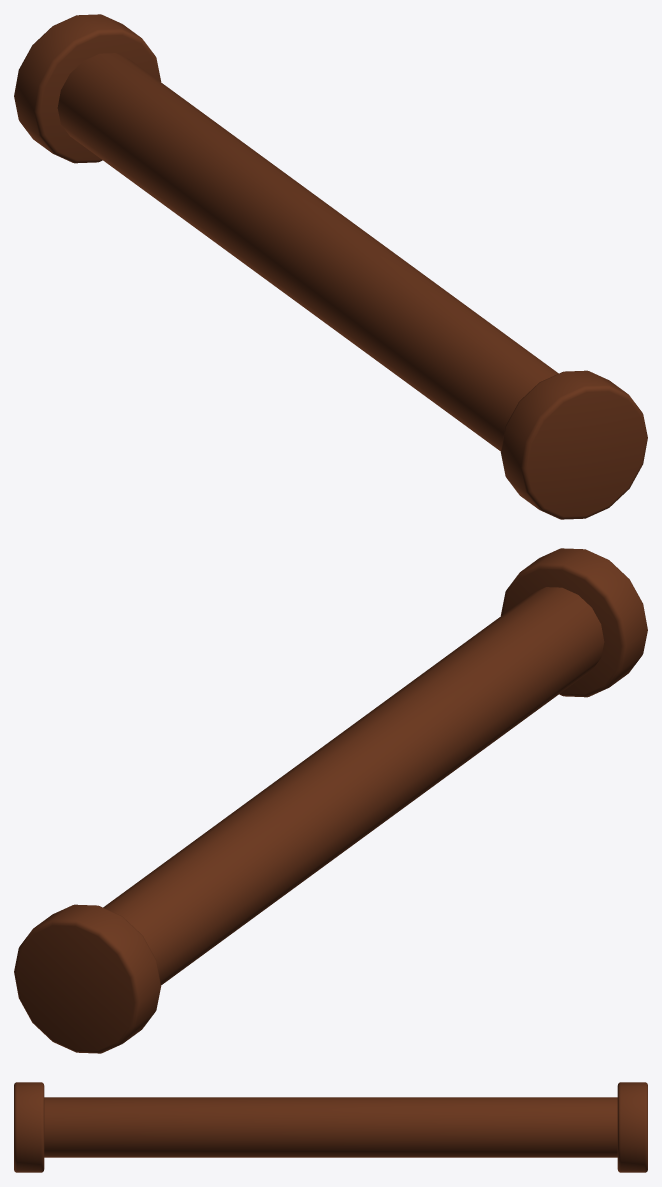
File: BB_PROP_Pipe_Straight.obj
The picture shows the model from 3 angles, top to bottom: view 1: azimuth 30°, elevation 25°; view 2: azimuth 150°, elevation 25°; view 3: azimuth 270°, elevation 25°; orthographic projection. The views are drawn at different scales.
Visible parts, largest first — view 1: BB_PROP_Pipe_Straight; view 2: BB_PROP_Pipe_Straight; view 3: BB_PROP_Pipe_Straight.
Boxes of the visible parts, bbox=[...] form: BB_PROP_Pipe_Straight: bbox=[14, 14, 647, 519]; BB_PROP_Pipe_Straight: bbox=[14, 548, 647, 1053]; BB_PROP_Pipe_Straight: bbox=[14, 1082, 647, 1172].
Bounding box in the file's own units: 0.3 × 0.3 × 2.1.
